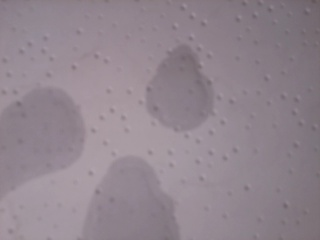Water_detected: (101, 179, 162, 240), (21, 108, 63, 162), (149, 75, 188, 115)
